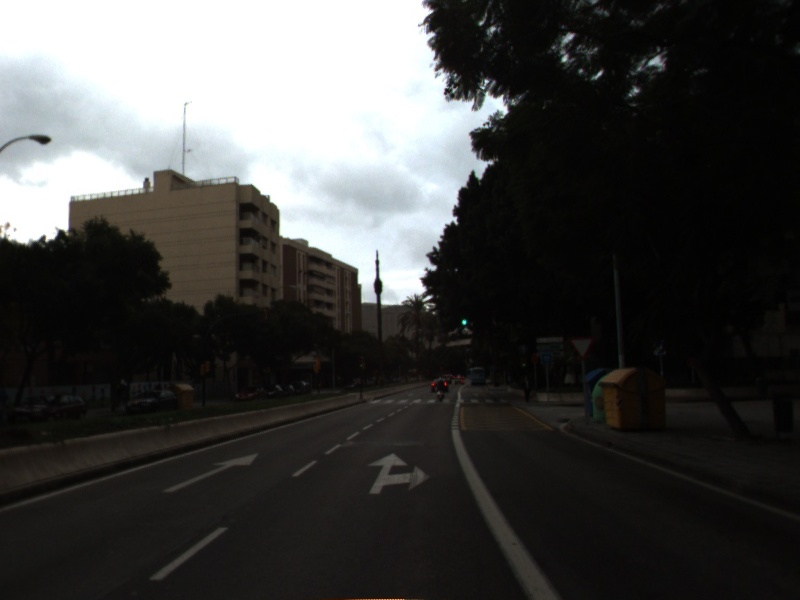STRAIGHT: (161, 452, 261, 495)
STRAIGHT_RIGHT: (365, 451, 434, 496)
